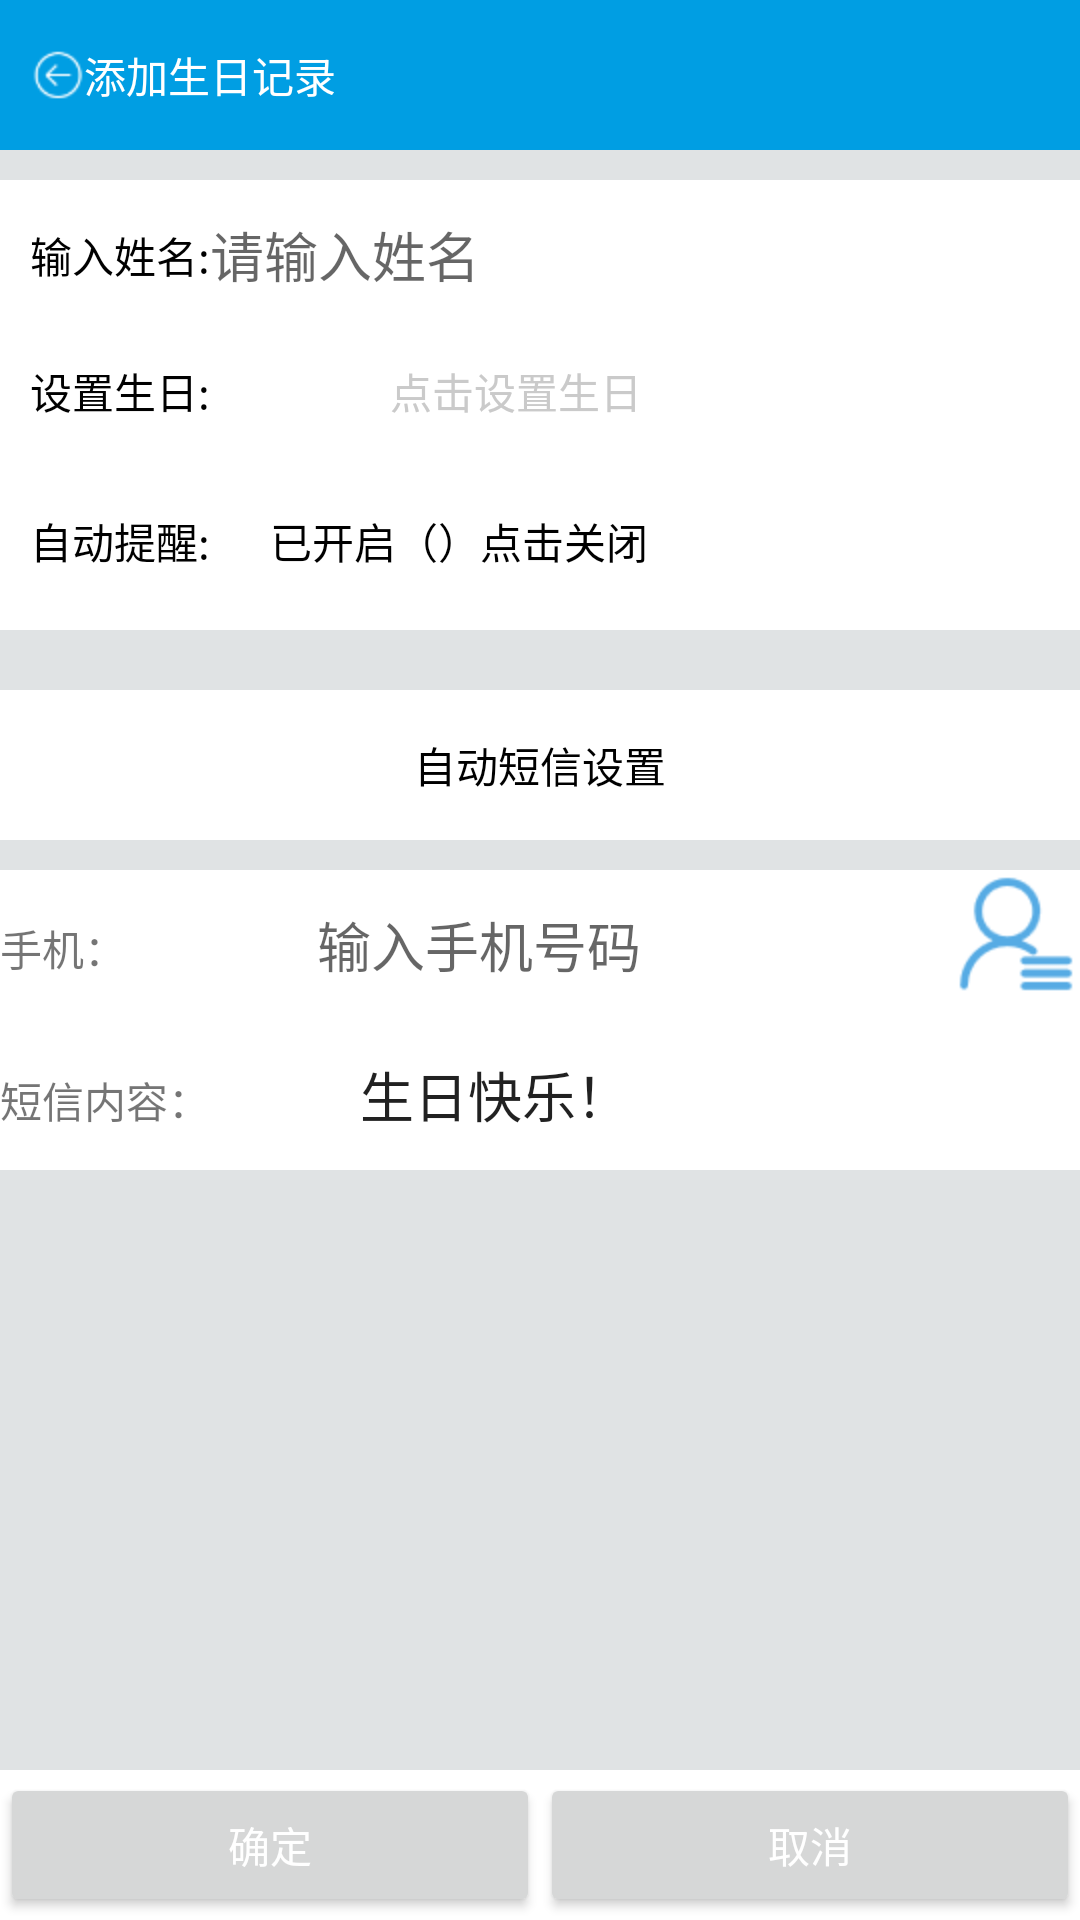

Icon click points for this 1080 x 1920 phone screenshot, format [x,y]:
contacts dis: [1016,934]
